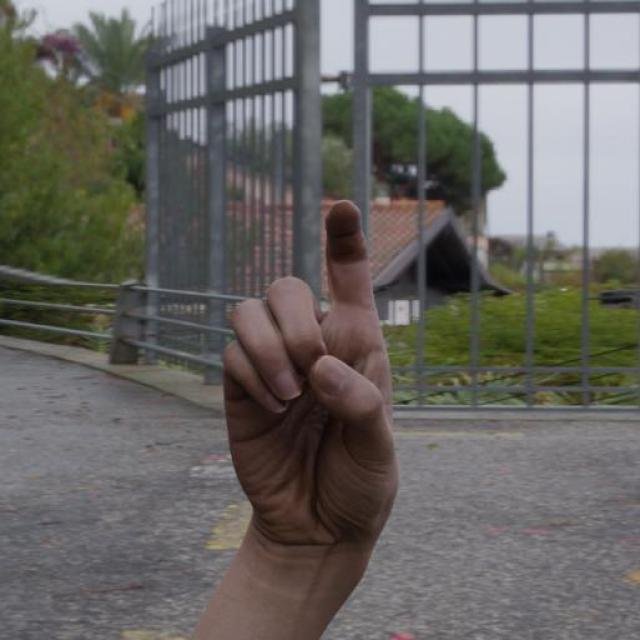X: (218, 195, 397, 560)
